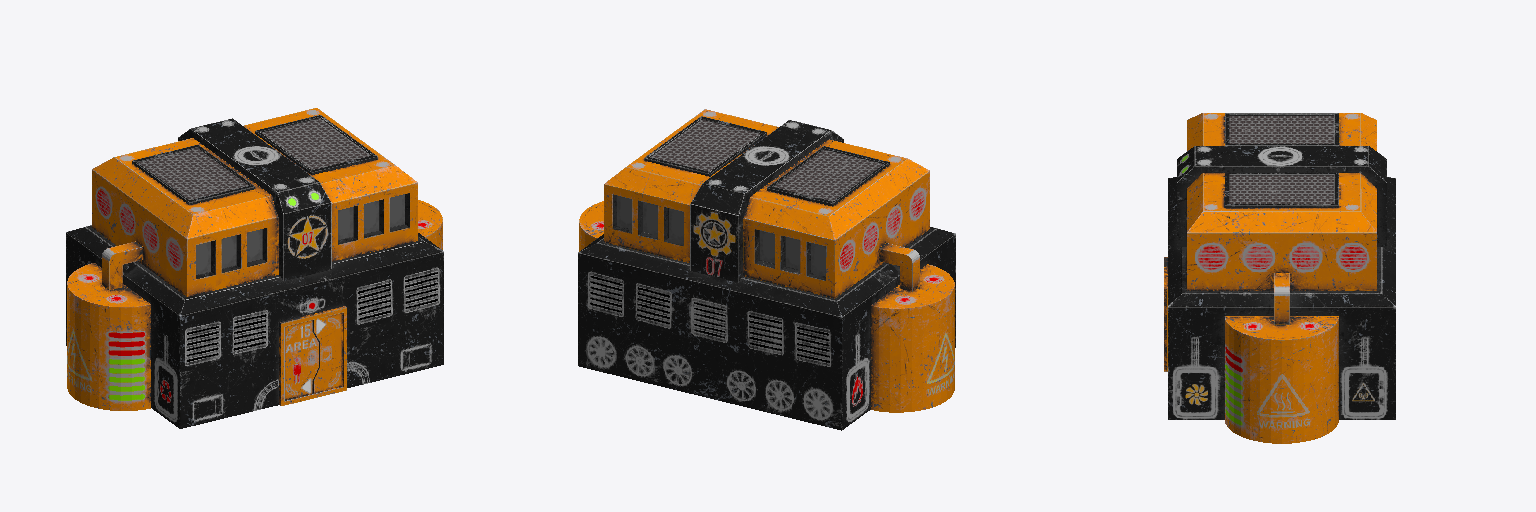
The picture shows the model from 3 angles: view 1: azimuth 30°, elevation 25°; view 2: azimuth 150°, elevation 25°; view 3: azimuth 270°, elevation 25°; orthographic projection.
Visible parts, largest first — view 1: Sci-Fi_Building_01_Sci-Fi_Building_01_0; view 2: Sci-Fi_Building_01_Sci-Fi_Building_01_0; view 3: Sci-Fi_Building_01_Sci-Fi_Building_01_0.
Part boxes in pixels (bbox=[...]): Sci-Fi_Building_01_Sci-Fi_Building_01_0: bbox=[66, 108, 443, 428]; Sci-Fi_Building_01_Sci-Fi_Building_01_0: bbox=[578, 109, 955, 430]; Sci-Fi_Building_01_Sci-Fi_Building_01_0: bbox=[1164, 113, 1395, 443].
Size of the model in its own units: 1091 by 578 by 610.
1 materials, 1 textured.